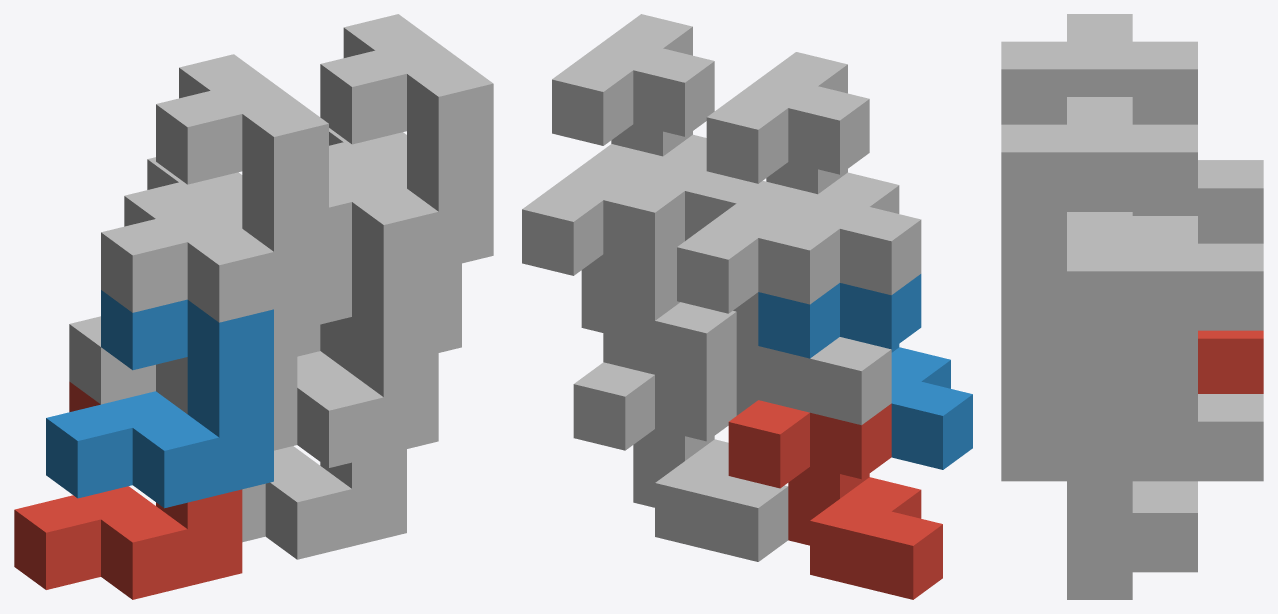
Rendered from tiling.obj.
3 views of the same model, side by side, from view 1: azimuth 30°, elevation 25°; view 2: azimuth 150°, elevation 25°; view 3: azimuth 270°, elevation 25° (orthographic). The views are drawn at different scales.
Parts seen in each view (by area): view 1: copy_1_domain_4, copy_1_domain_8, copy_1_domain_2, copy_1_domain_6, copy_1_domain_1, copy_1_domain_5, copy_1_domain_3, copy_1_domain_7; view 2: copy_1_domain_4, copy_1_domain_1, copy_1_domain_3, copy_1_domain_7, copy_1_domain_5, copy_1_domain_8, copy_1_domain_2, copy_1_domain_6; view 3: copy_1_domain_7, copy_1_domain_8, copy_1_domain_5, copy_1_domain_4, copy_1_domain_6, copy_1_domain_3, copy_1_domain_1.
Part boxes in pixels (x1,y1,x2,y2): copy_1_domain_4: (101, 54, 328, 322); copy_1_domain_8: (320, 14, 493, 282); copy_1_domain_2: (46, 290, 273, 508); copy_1_domain_6: (274, 259, 438, 467); copy_1_domain_1: (14, 381, 242, 599); copy_1_domain_5: (242, 446, 406, 559); copy_1_domain_3: (69, 157, 297, 413); copy_1_domain_7: (297, 128, 461, 373); copy_1_domain_4: (706, 52, 921, 295); copy_1_domain_1: (728, 400, 942, 599); copy_1_domain_3: (677, 181, 891, 425); copy_1_domain_7: (522, 144, 736, 387); copy_1_domain_5: (573, 362, 788, 561); copy_1_domain_8: (552, 14, 765, 240); copy_1_domain_2: (758, 274, 972, 469); copy_1_domain_6: (603, 251, 758, 415); copy_1_domain_7: (1067, 216, 1263, 449); copy_1_domain_8: (1001, 97, 1197, 330); copy_1_domain_5: (1067, 394, 1263, 599); copy_1_domain_4: (1001, 14, 1197, 124); copy_1_domain_6: (1001, 330, 1197, 481); copy_1_domain_3: (1132, 160, 1263, 243); copy_1_domain_1: (1198, 330, 1263, 393).
Bounding box in the file's own units: 7 × 8 × 4.
